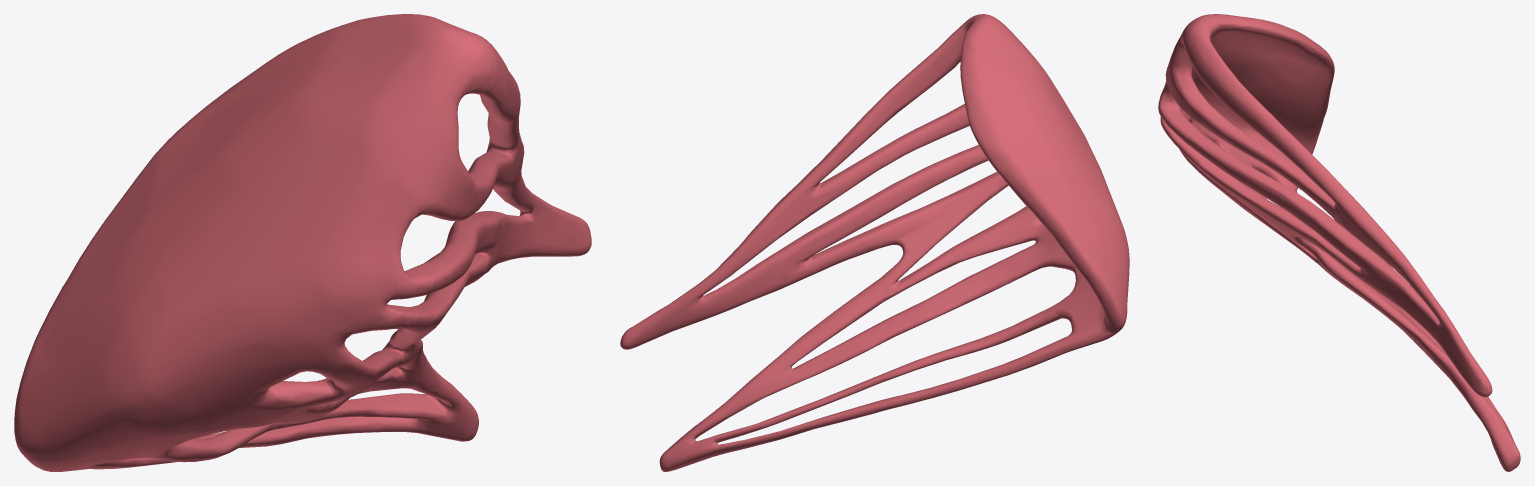
The picture shows the model from 3 angles, left to right: view 1: azimuth 30°, elevation 25°; view 2: azimuth 150°, elevation 25°; view 3: azimuth 270°, elevation 25°; orthographic projection. The views are drawn at different scales.
Visible parts, largest first — view 1: 三尖瓣后尖; view 2: 三尖瓣后尖; view 3: 三尖瓣后尖.
Boxes of the visible parts, box(x1,y1,x2,y2) form: 三尖瓣后尖: box(14, 14, 591, 471); 三尖瓣后尖: box(620, 14, 1129, 471); 三尖瓣后尖: box(1158, 14, 1520, 471).
Bounding box in the file's own units: 0.054 × 0.048 × 0.042.
